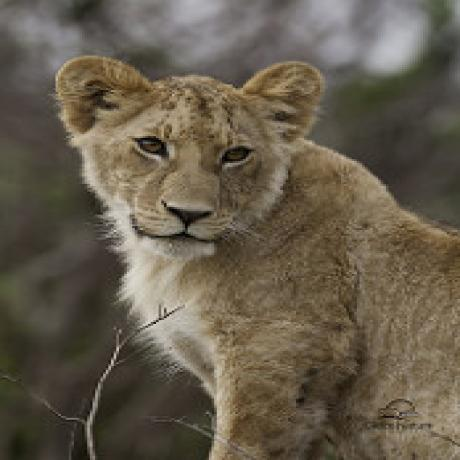Lion: (47, 52, 460, 460)
